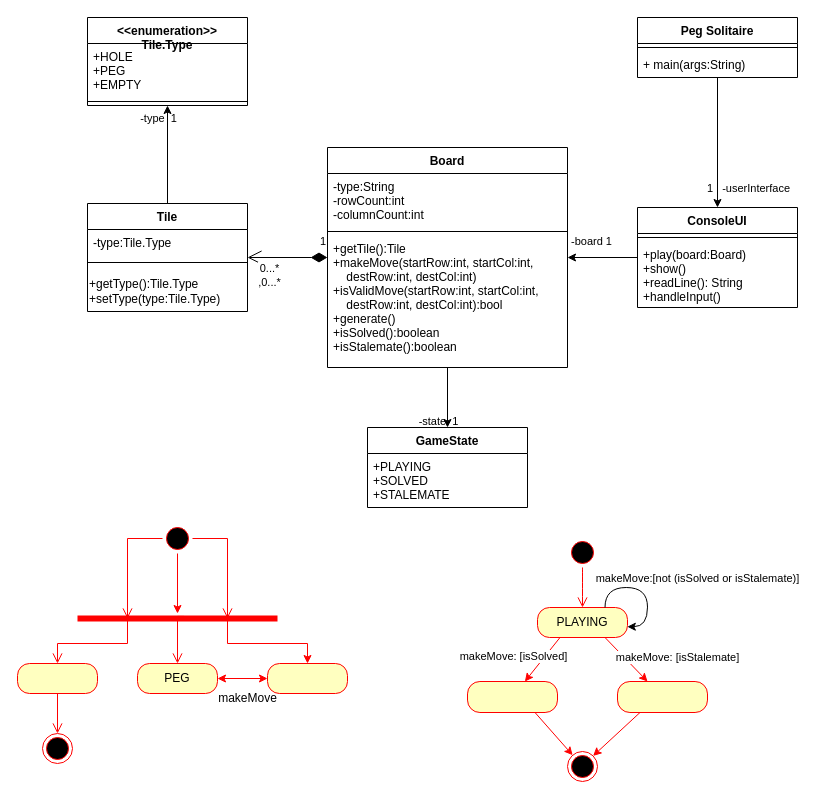
The diagram is 817 pixels wide and 799 high, and some of its shapes have lost their labels. The centre of each missing label's shape, as x and y in pixels:
EMPTY: (57,678)
HOLE: (307,678)
SOLVED: (512,696)
STALEMATE: (662,696)
